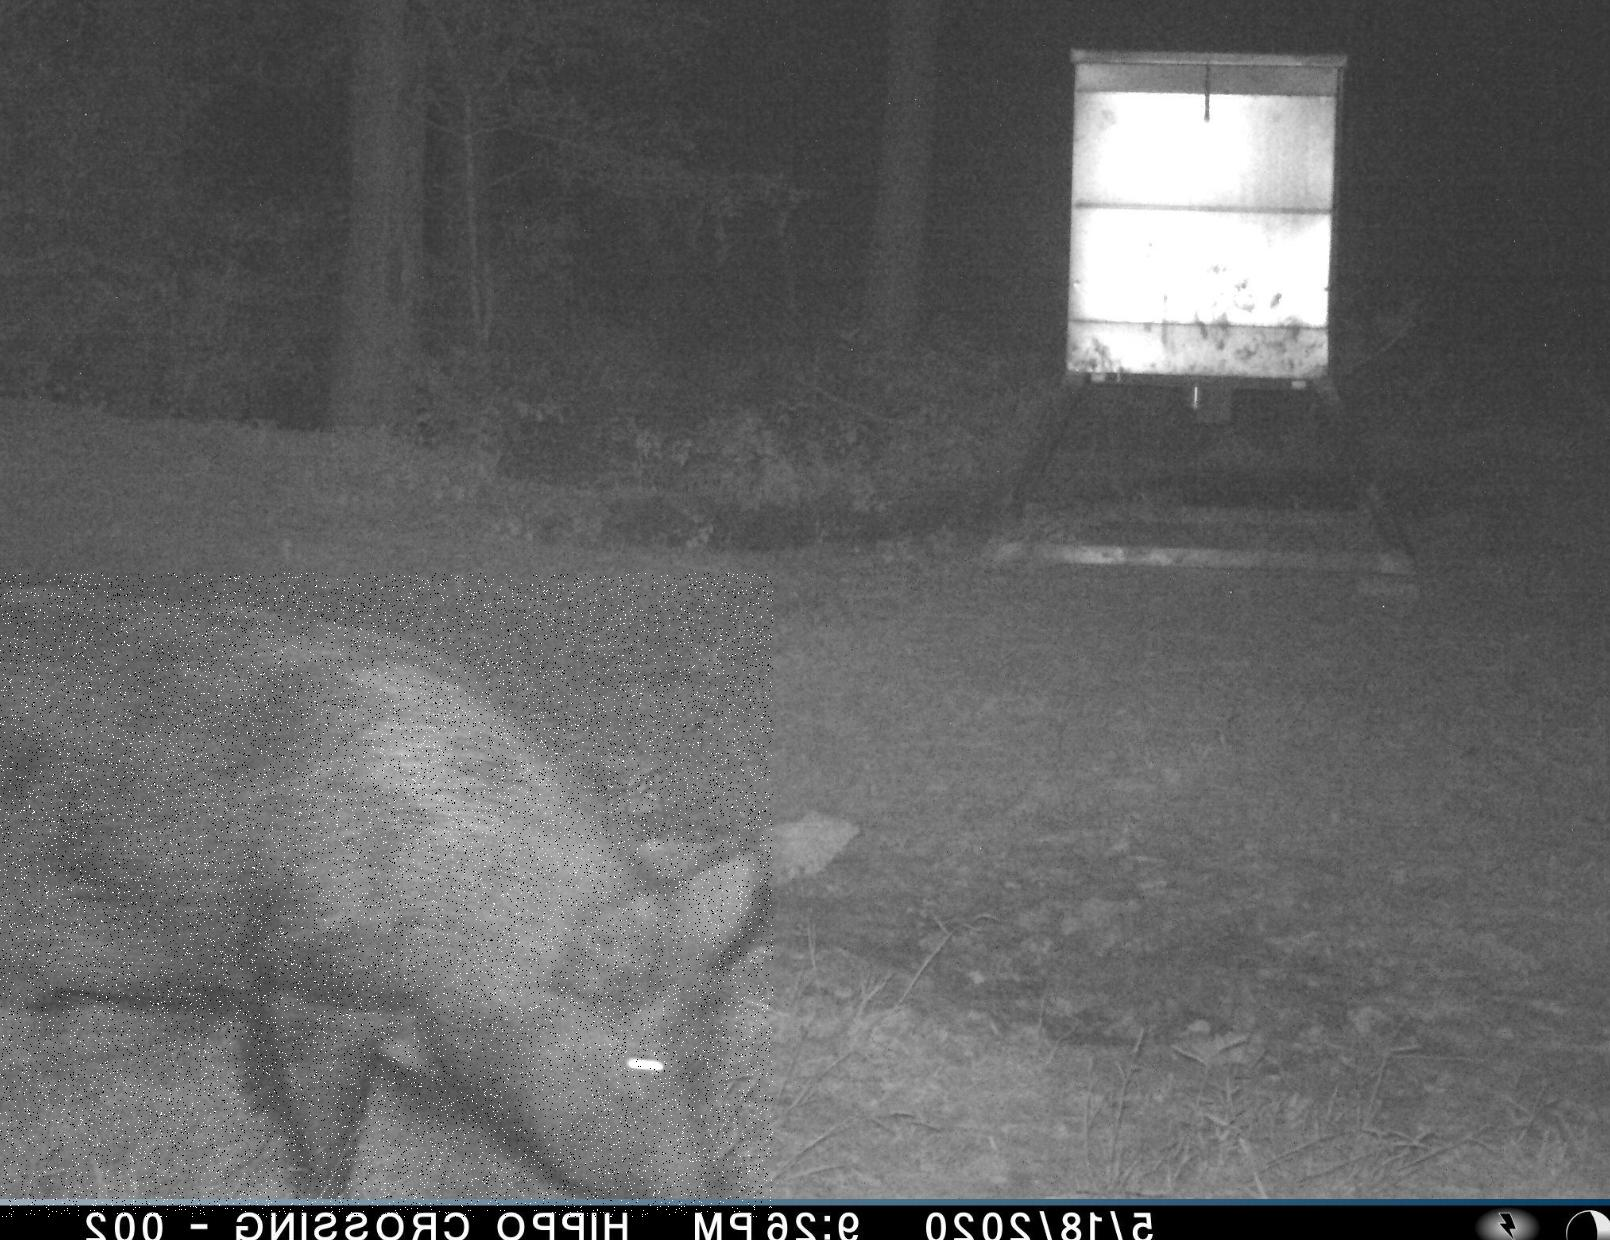Hog: (0, 573, 772, 1217)
